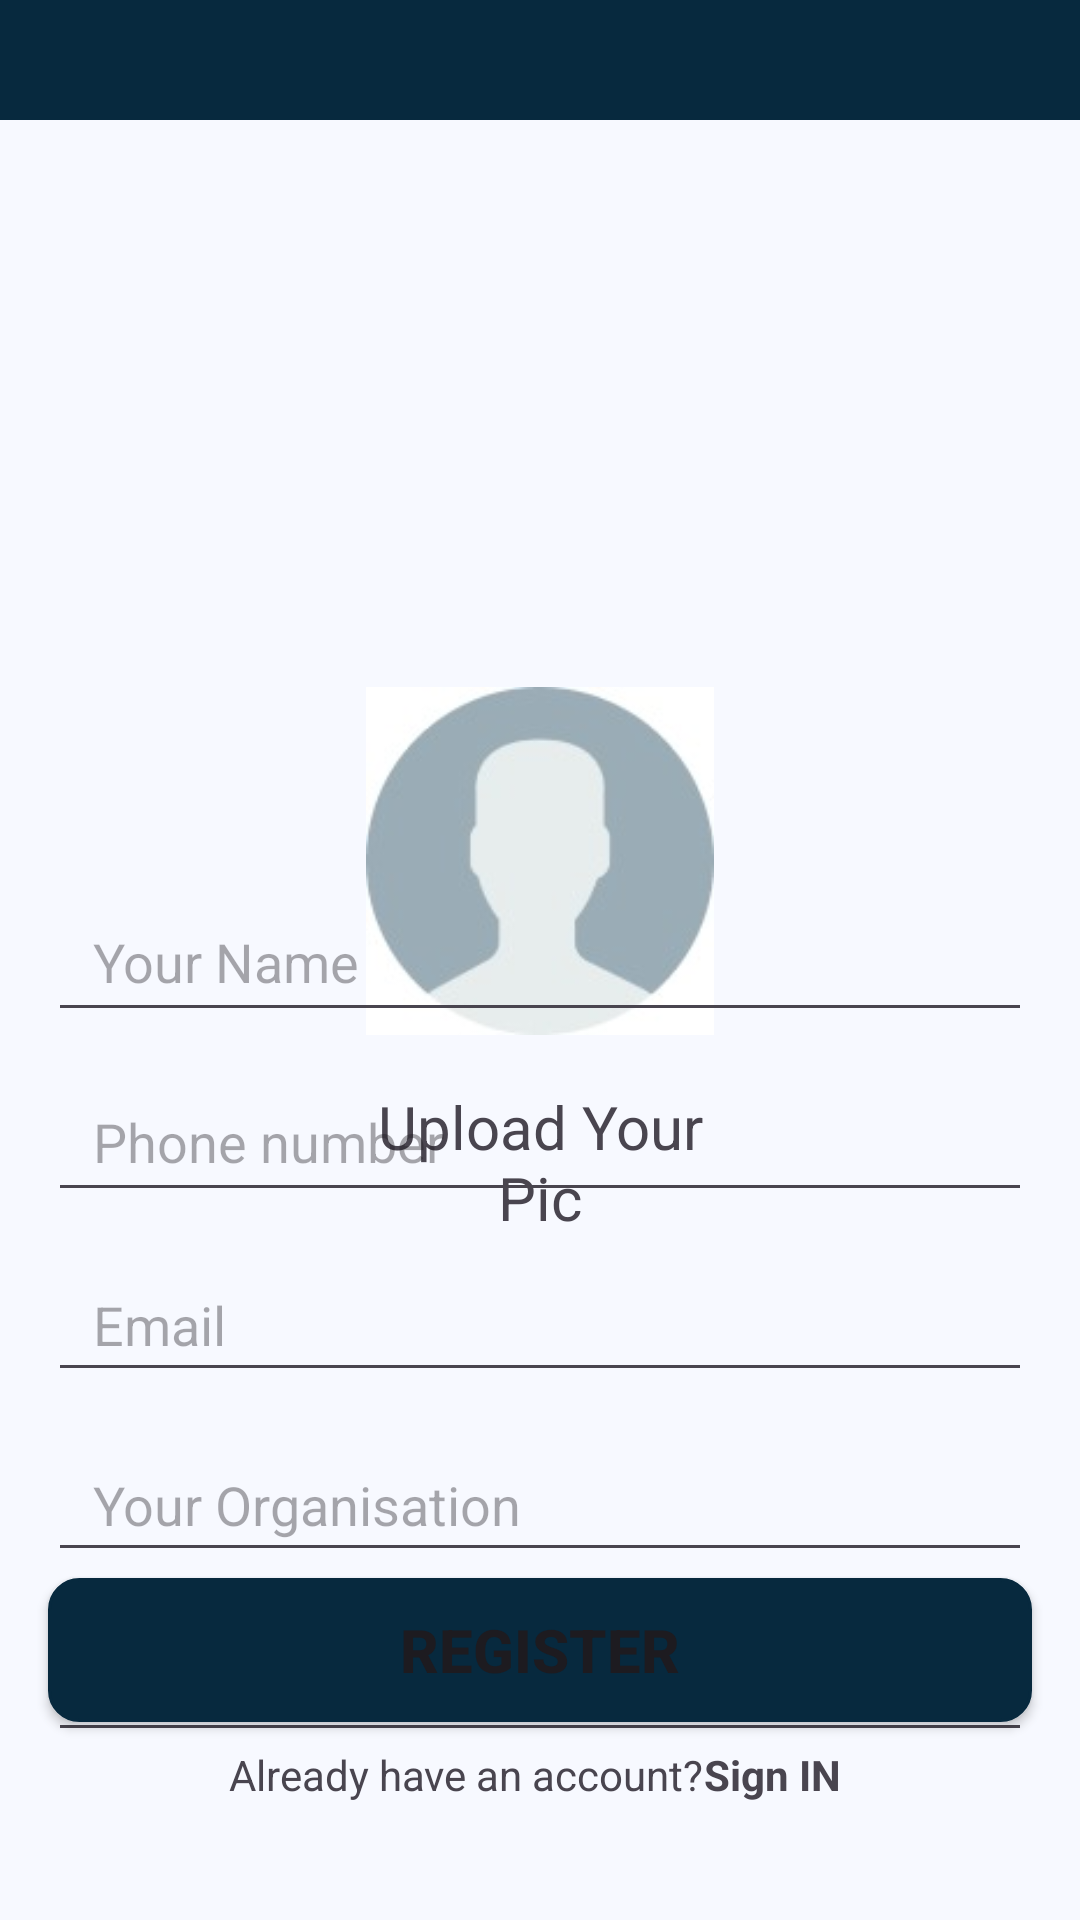

Locate icon controls on the screen. Image size 1080w x 1920h, boxes as (x1,y1,x2,y2).
User Profile Picture: (366,687,714,994)
